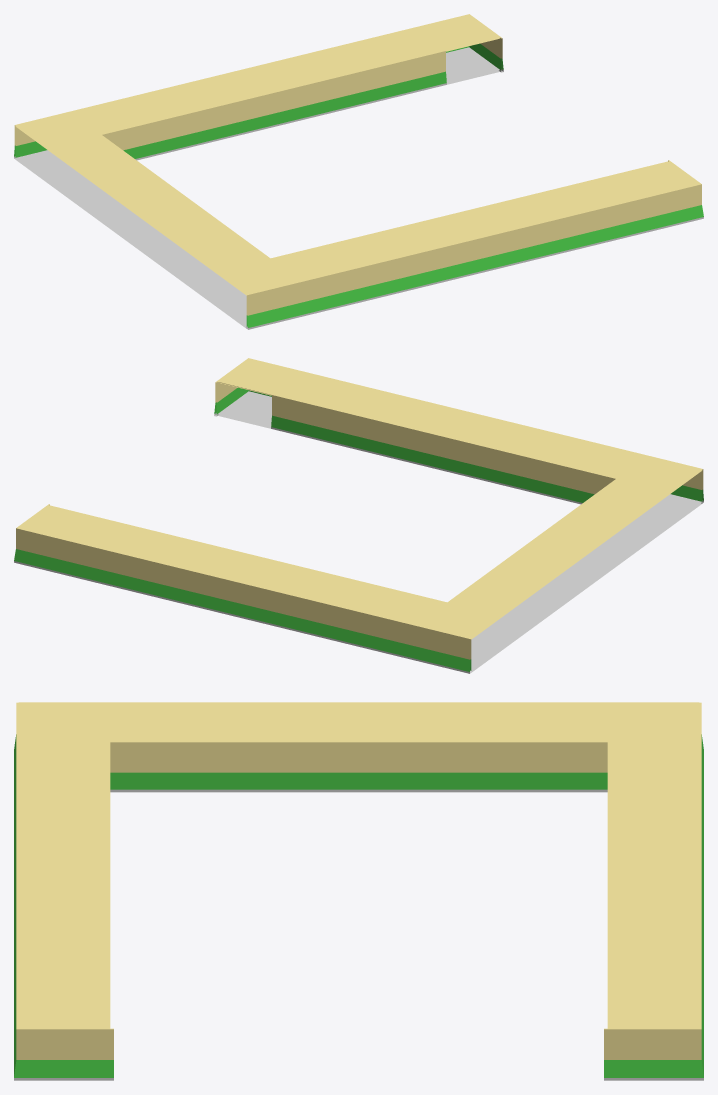
The model's file is interior_school_room_southeast_00.fbx.
The picture shows the model from 3 angles, top to bottom: view 1: azimuth 30°, elevation 25°; view 2: azimuth 150°, elevation 25°; view 3: azimuth 270°, elevation 25°; orthographic projection. The views are drawn at different scales.
Visible parts, largest first — view 1: Visible Mesh; view 2: Visible Mesh; view 3: Visible Mesh.
Part boxes in pixels (bbox=[...]): Visible Mesh: bbox=[14, 14, 703, 329]; Visible Mesh: bbox=[14, 358, 703, 673]; Visible Mesh: bbox=[14, 702, 703, 1080].
Size of the model in its own units: 5314 by 380 by 4726.
